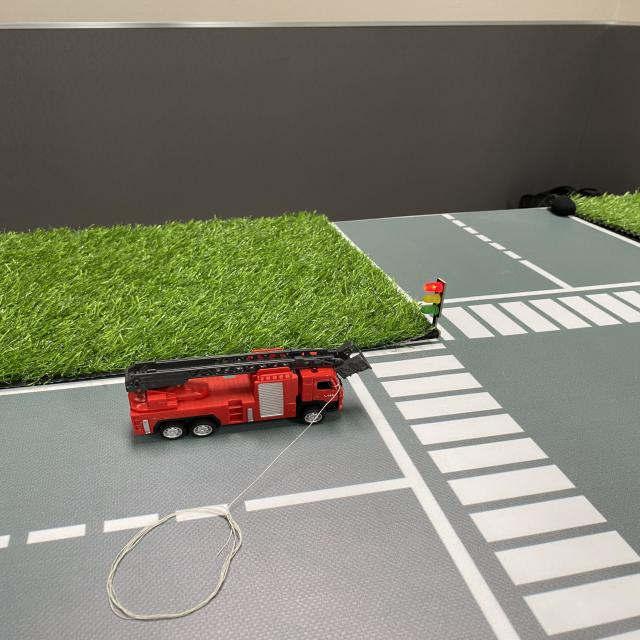Fire Truck: (119, 336, 378, 444)
